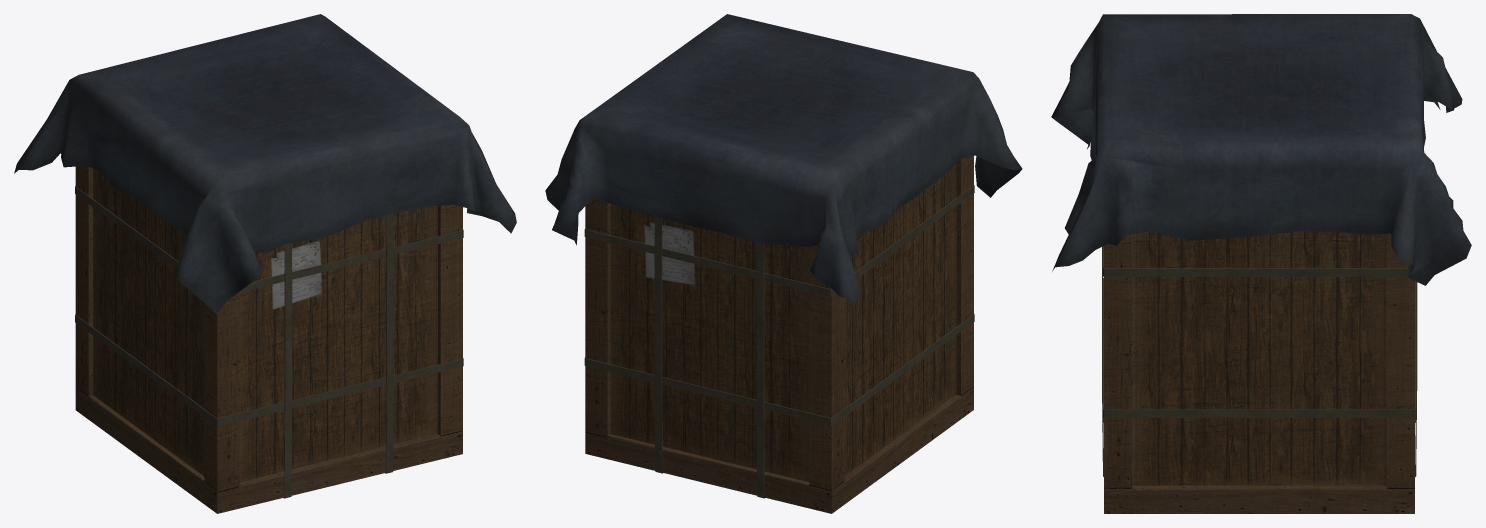
The model's file is wooden_crate_hx_2_2.dae.
3 views of the same model, side by side, from view 1: azimuth 30°, elevation 25°; view 2: azimuth 150°, elevation 25°; view 3: azimuth 270°, elevation 25° (orthographic). The views are drawn at different scales.
Visible parts, largest first — view 1: wooden_crate_hx_2_2; view 2: wooden_crate_hx_2_2; view 3: wooden_crate_hx_2_2.
Part boxes in pixels (x1=…): wooden_crate_hx_2_2: x1=14, y1=14, x2=516, y2=513; wooden_crate_hx_2_2: x1=545, y1=14, x2=1022, y2=513; wooden_crate_hx_2_2: x1=1051, y1=14, x2=1471, y2=513.
Size of the model in its own units: 1.89 by 1.89 by 1.84.
Materials: 3 (3 with a texture image).
